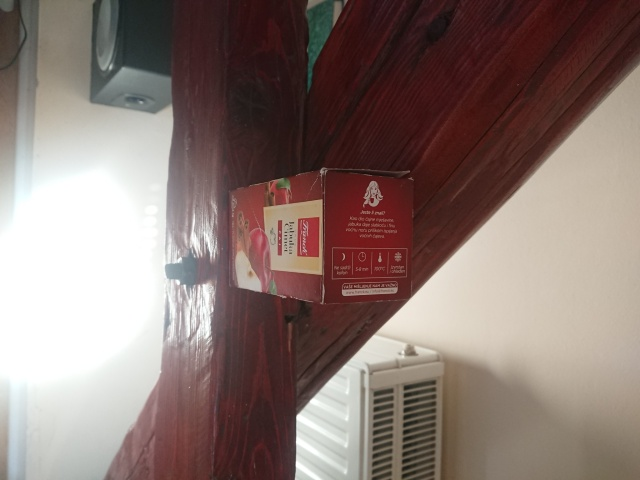Franck Apple Cinnamon Tea 60g: (226, 165, 416, 308)
